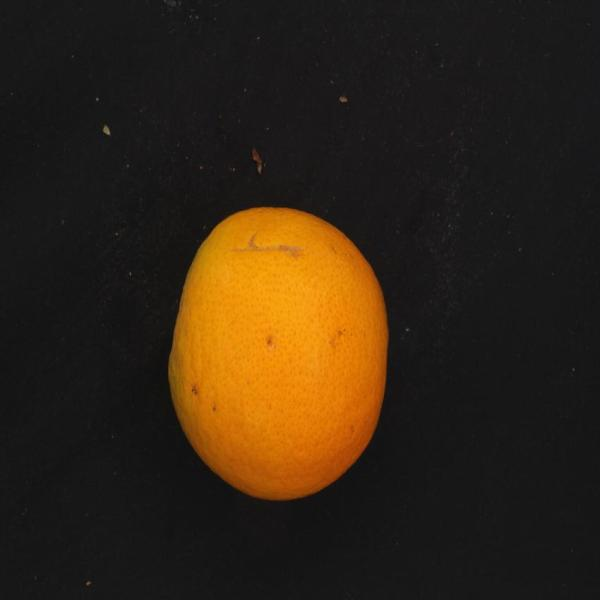Sana: (155, 185, 404, 510)
